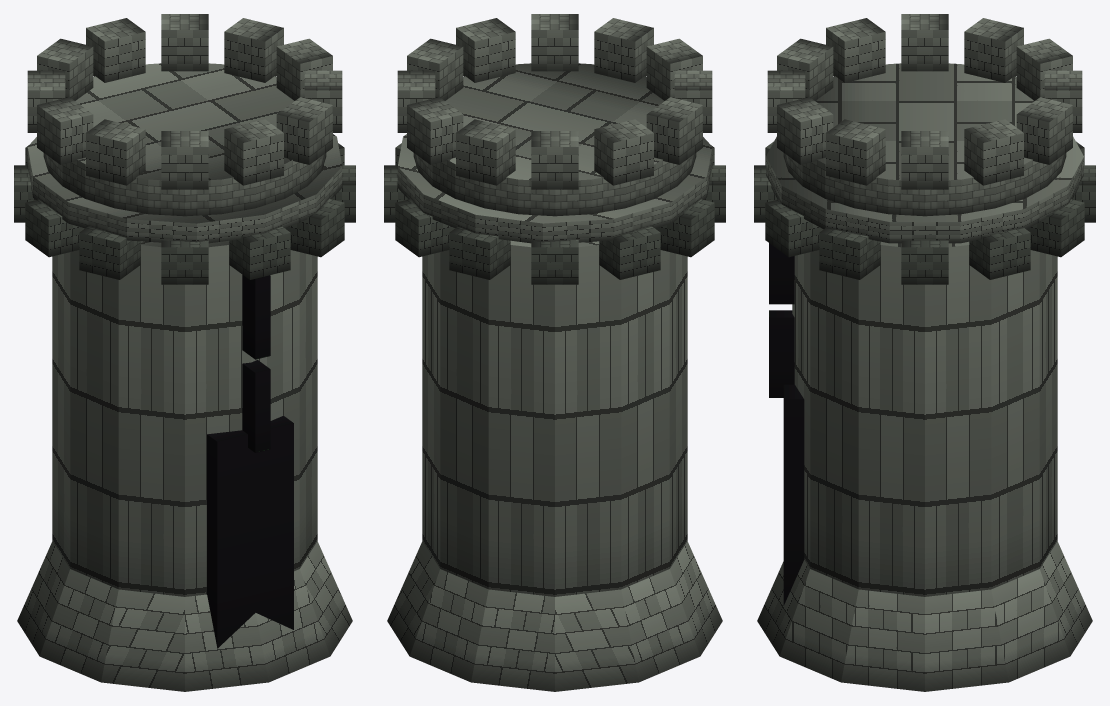
The model's file is tower_gate_dark.gltf.
The picture shows the model from 3 angles, left to right: view 1: azimuth 30°, elevation 25°; view 2: azimuth 150°, elevation 25°; view 3: azimuth 270°, elevation 25°; orthographic projection.
Parts seen in each view (by area): view 1: tower_gate_dark; view 2: tower_gate_dark; view 3: tower_gate_dark.
Part boxes in pixels (x1=…): tower_gate_dark: x1=14, y1=14, x2=355, y2=691; tower_gate_dark: x1=384, y1=14, x2=725, y2=691; tower_gate_dark: x1=754, y1=14, x2=1095, y2=691.
Size of the model in its own units: 1.16 by 2.03 by 1.16.
Materials: 1 (1 with a texture image).
